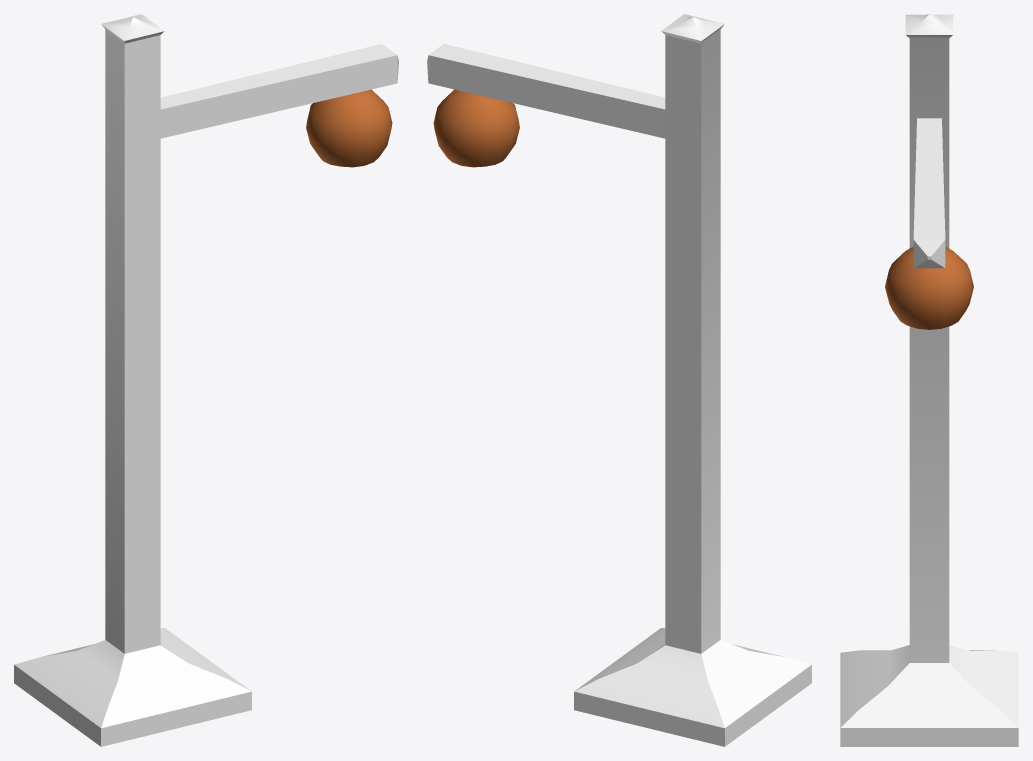
The model's file is posteLuz.fbx.
3 renders of one model, left to right at view 1: azimuth 30°, elevation 25°; view 2: azimuth 150°, elevation 25°; view 3: azimuth 270°, elevation 25°, orthographic. The views are drawn at different scales.
Parts seen in each view (by area): view 1: Poste; view 2: Poste; view 3: Poste.
Part boxes in pixels (left/top/right/bottom): Poste: left=14, top=14, right=398, bottom=746; Poste: left=427, top=14, right=811, bottom=746; Poste: left=840, top=14, right=1018, bottom=746.
Size of the model in its own units: 452 by 862 by 200.
1 material, 1 textured.
